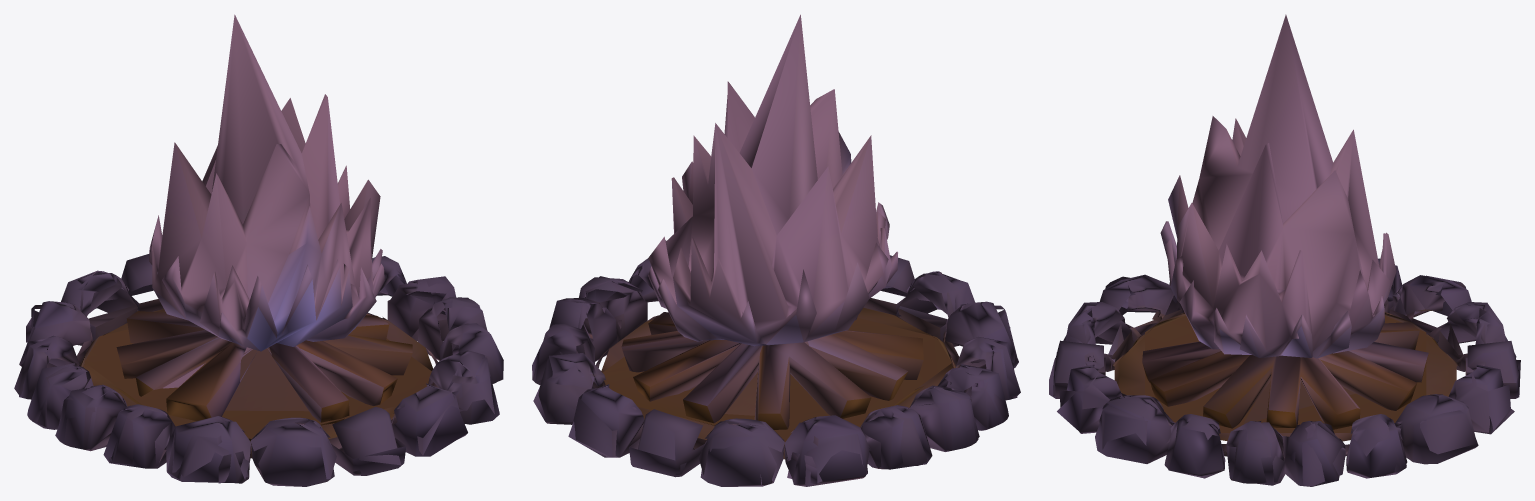
File: model.progressive.glb
3 renders of one model, left to right at view 1: azimuth 30°, elevation 25°; view 2: azimuth 150°, elevation 25°; view 3: azimuth 270°, elevation 25°, orthographic. The views are drawn at different scales.
Parts seen in each view (by area): view 1: material; view 2: material; view 3: material.
Boxes of the visible parts, left/top/right/bottom form: material: left=14, top=14, right=503, bottom=486; material: left=532, top=14, right=1020, bottom=486; material: left=1049, top=14, right=1520, bottom=486.
Bounding box in the file's own units: 1.87 × 1.57 × 1.86.
Materials: 1 (1 with a texture image).
